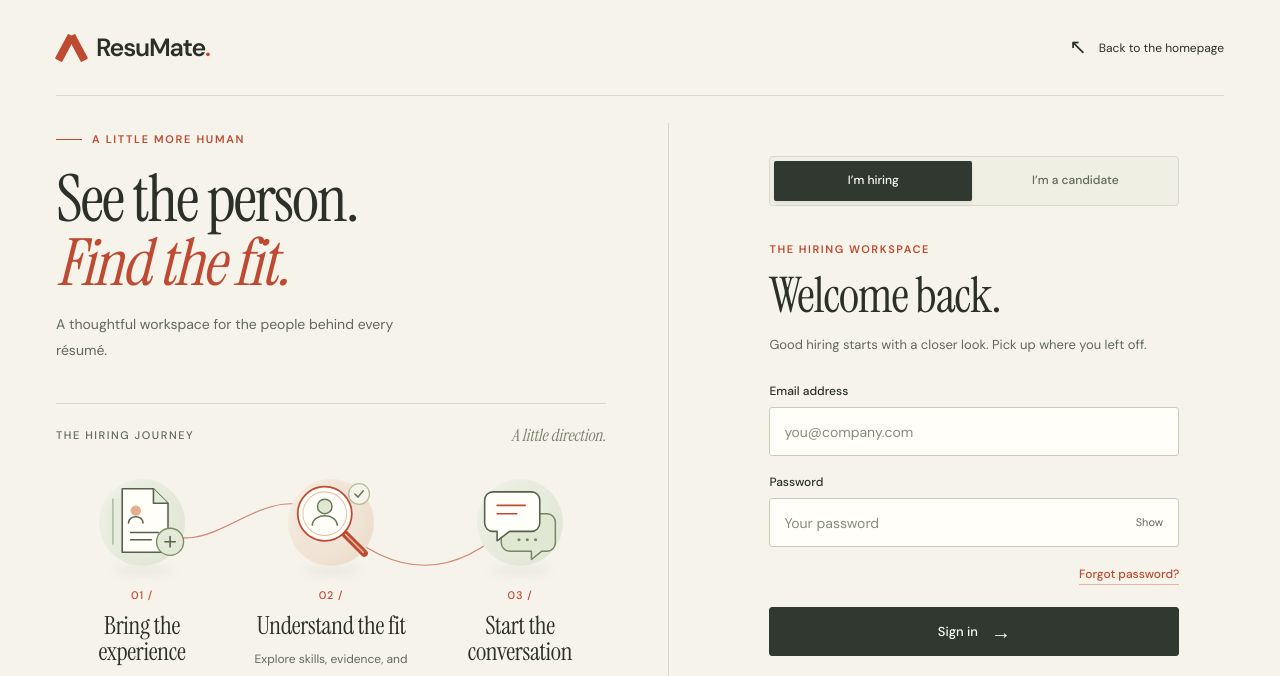
Test case: before anything is sent › clears what it said about a field once you change it
Step 1. Click the button "Sign in →" → (974,632), box [769,607,1179,656]
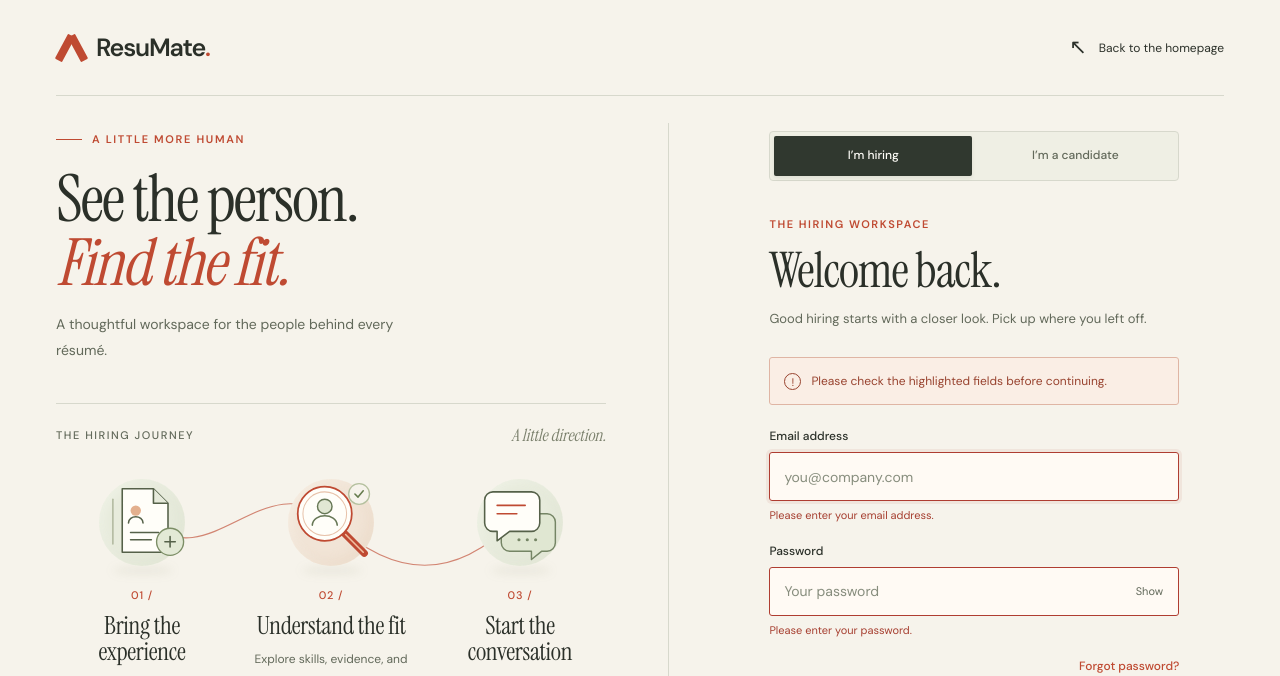
Step 2. Type "j" into the field labelled "Email address" → (974,477), box [769,452,1179,501]
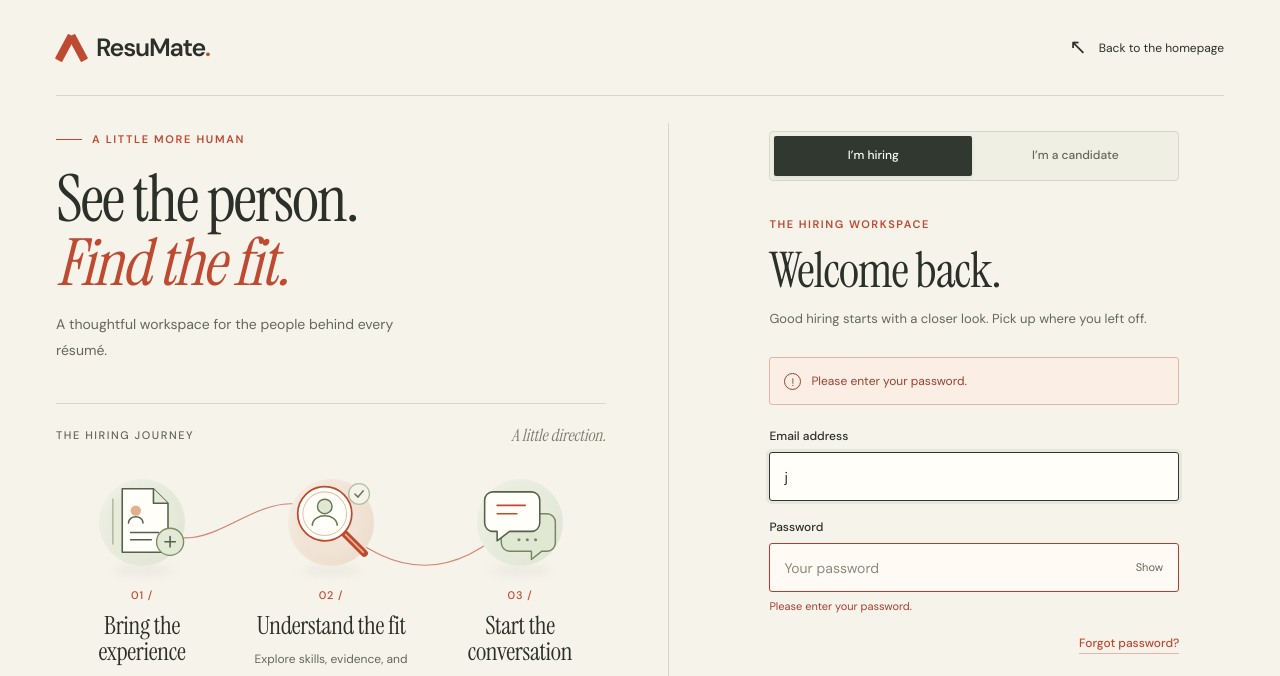
Expected: the text "Please enter your email address." is gone
Expected: the message shows "Please enter your password.", [811,373,967,389]
